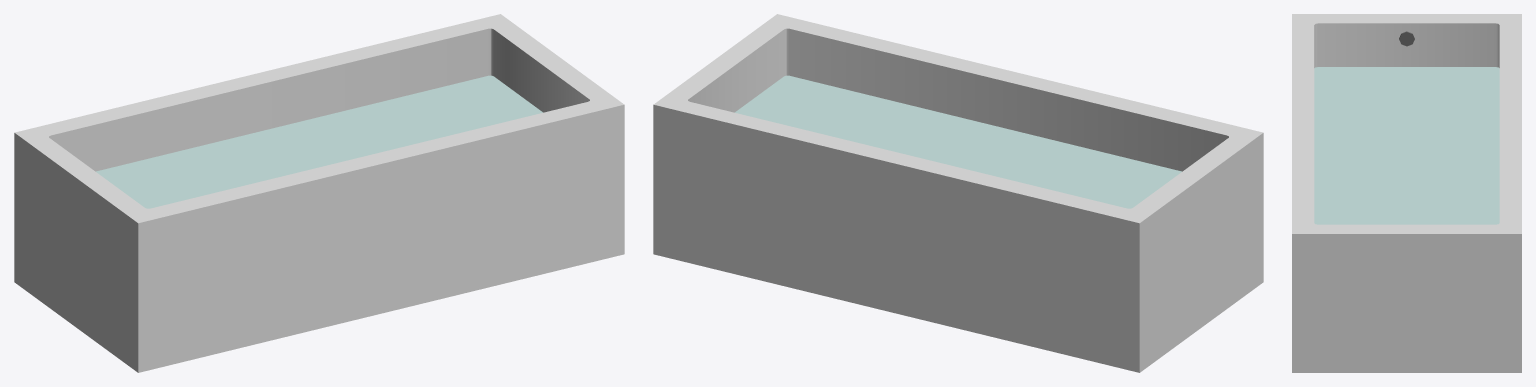
The model's file is Bathroom_02.fbx.
3 views of the same model, side by side, from view 1: azimuth 30°, elevation 25°; view 2: azimuth 150°, elevation 25°; view 3: azimuth 270°, elevation 25° (orthographic). The views are drawn at different scales.
Parts seen in each view (by area): view 1: Bathroom_02; view 2: Bathroom_02; view 3: Bathroom_02.
Boxes of the visible parts, x1=… form: Bathroom_02: x1=14, y1=14, x2=624, y2=372; Bathroom_02: x1=653, y1=14, x2=1263, y2=372; Bathroom_02: x1=1292, y1=14, x2=1521, y2=372.
Size of the model in its own units: 170 by 50 by 75.
